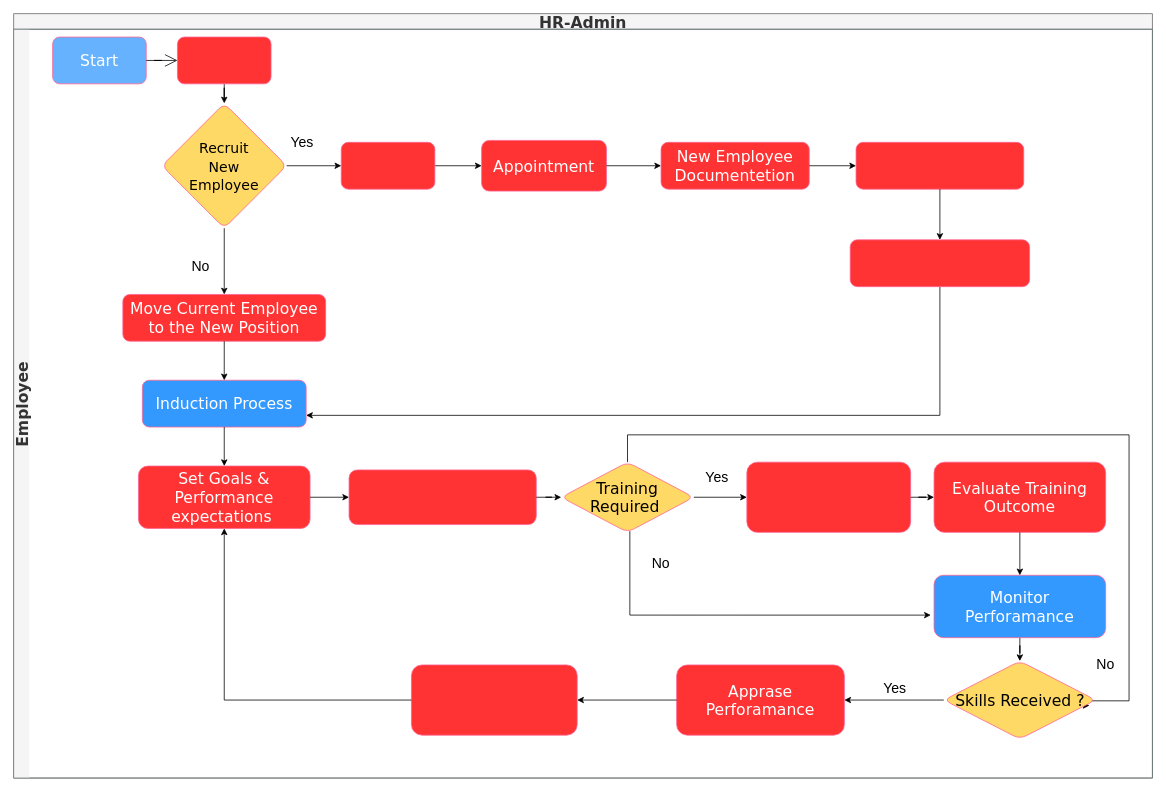
This 1166x792 diagram has some shape labels left out. Each missing label, with the centre of its shape:
"Create Employee Profile" belongs at (939,263).
"Handover to the new Department" belongs at (939,165).
"Plan or Conduct individual or group training" belongs at (828,496).
"Review Reward and Strategies" belongs at (494,699).
"Select Employee" belongs at (224,60).
"Send Offer Letter" belongs at (387,165).
"Undertake Training needs analysis" belongs at (442,497).
